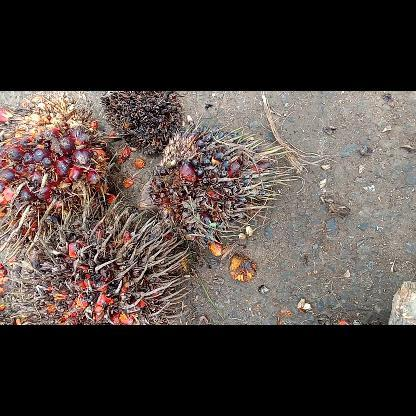TBS abnormal: (134, 122, 300, 258), (99, 90, 183, 156)
TBS masak: (0, 94, 116, 242)
Terlalu masak: (21, 197, 185, 323)
